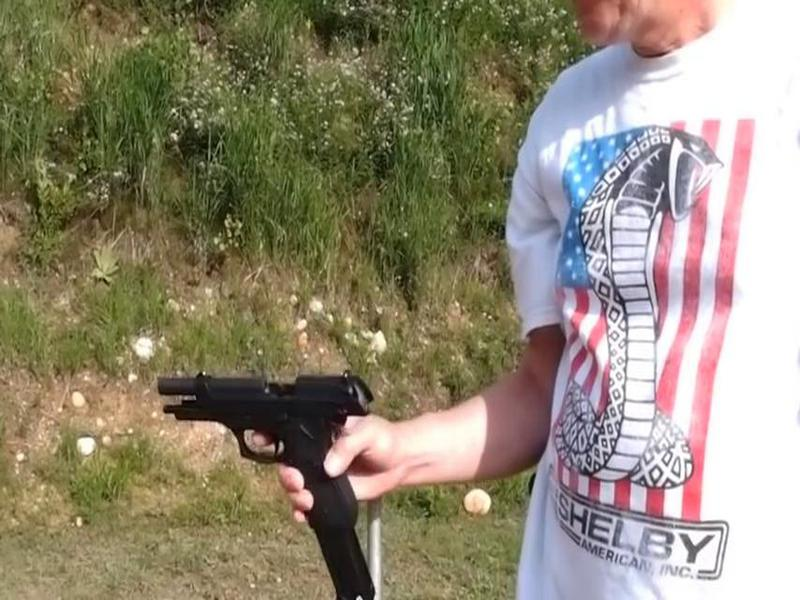Pistola: (158, 344, 384, 531)
